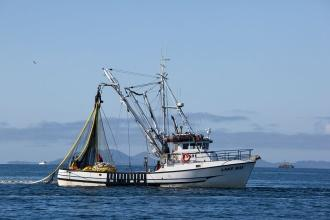otherboat: (57, 96, 265, 189)
